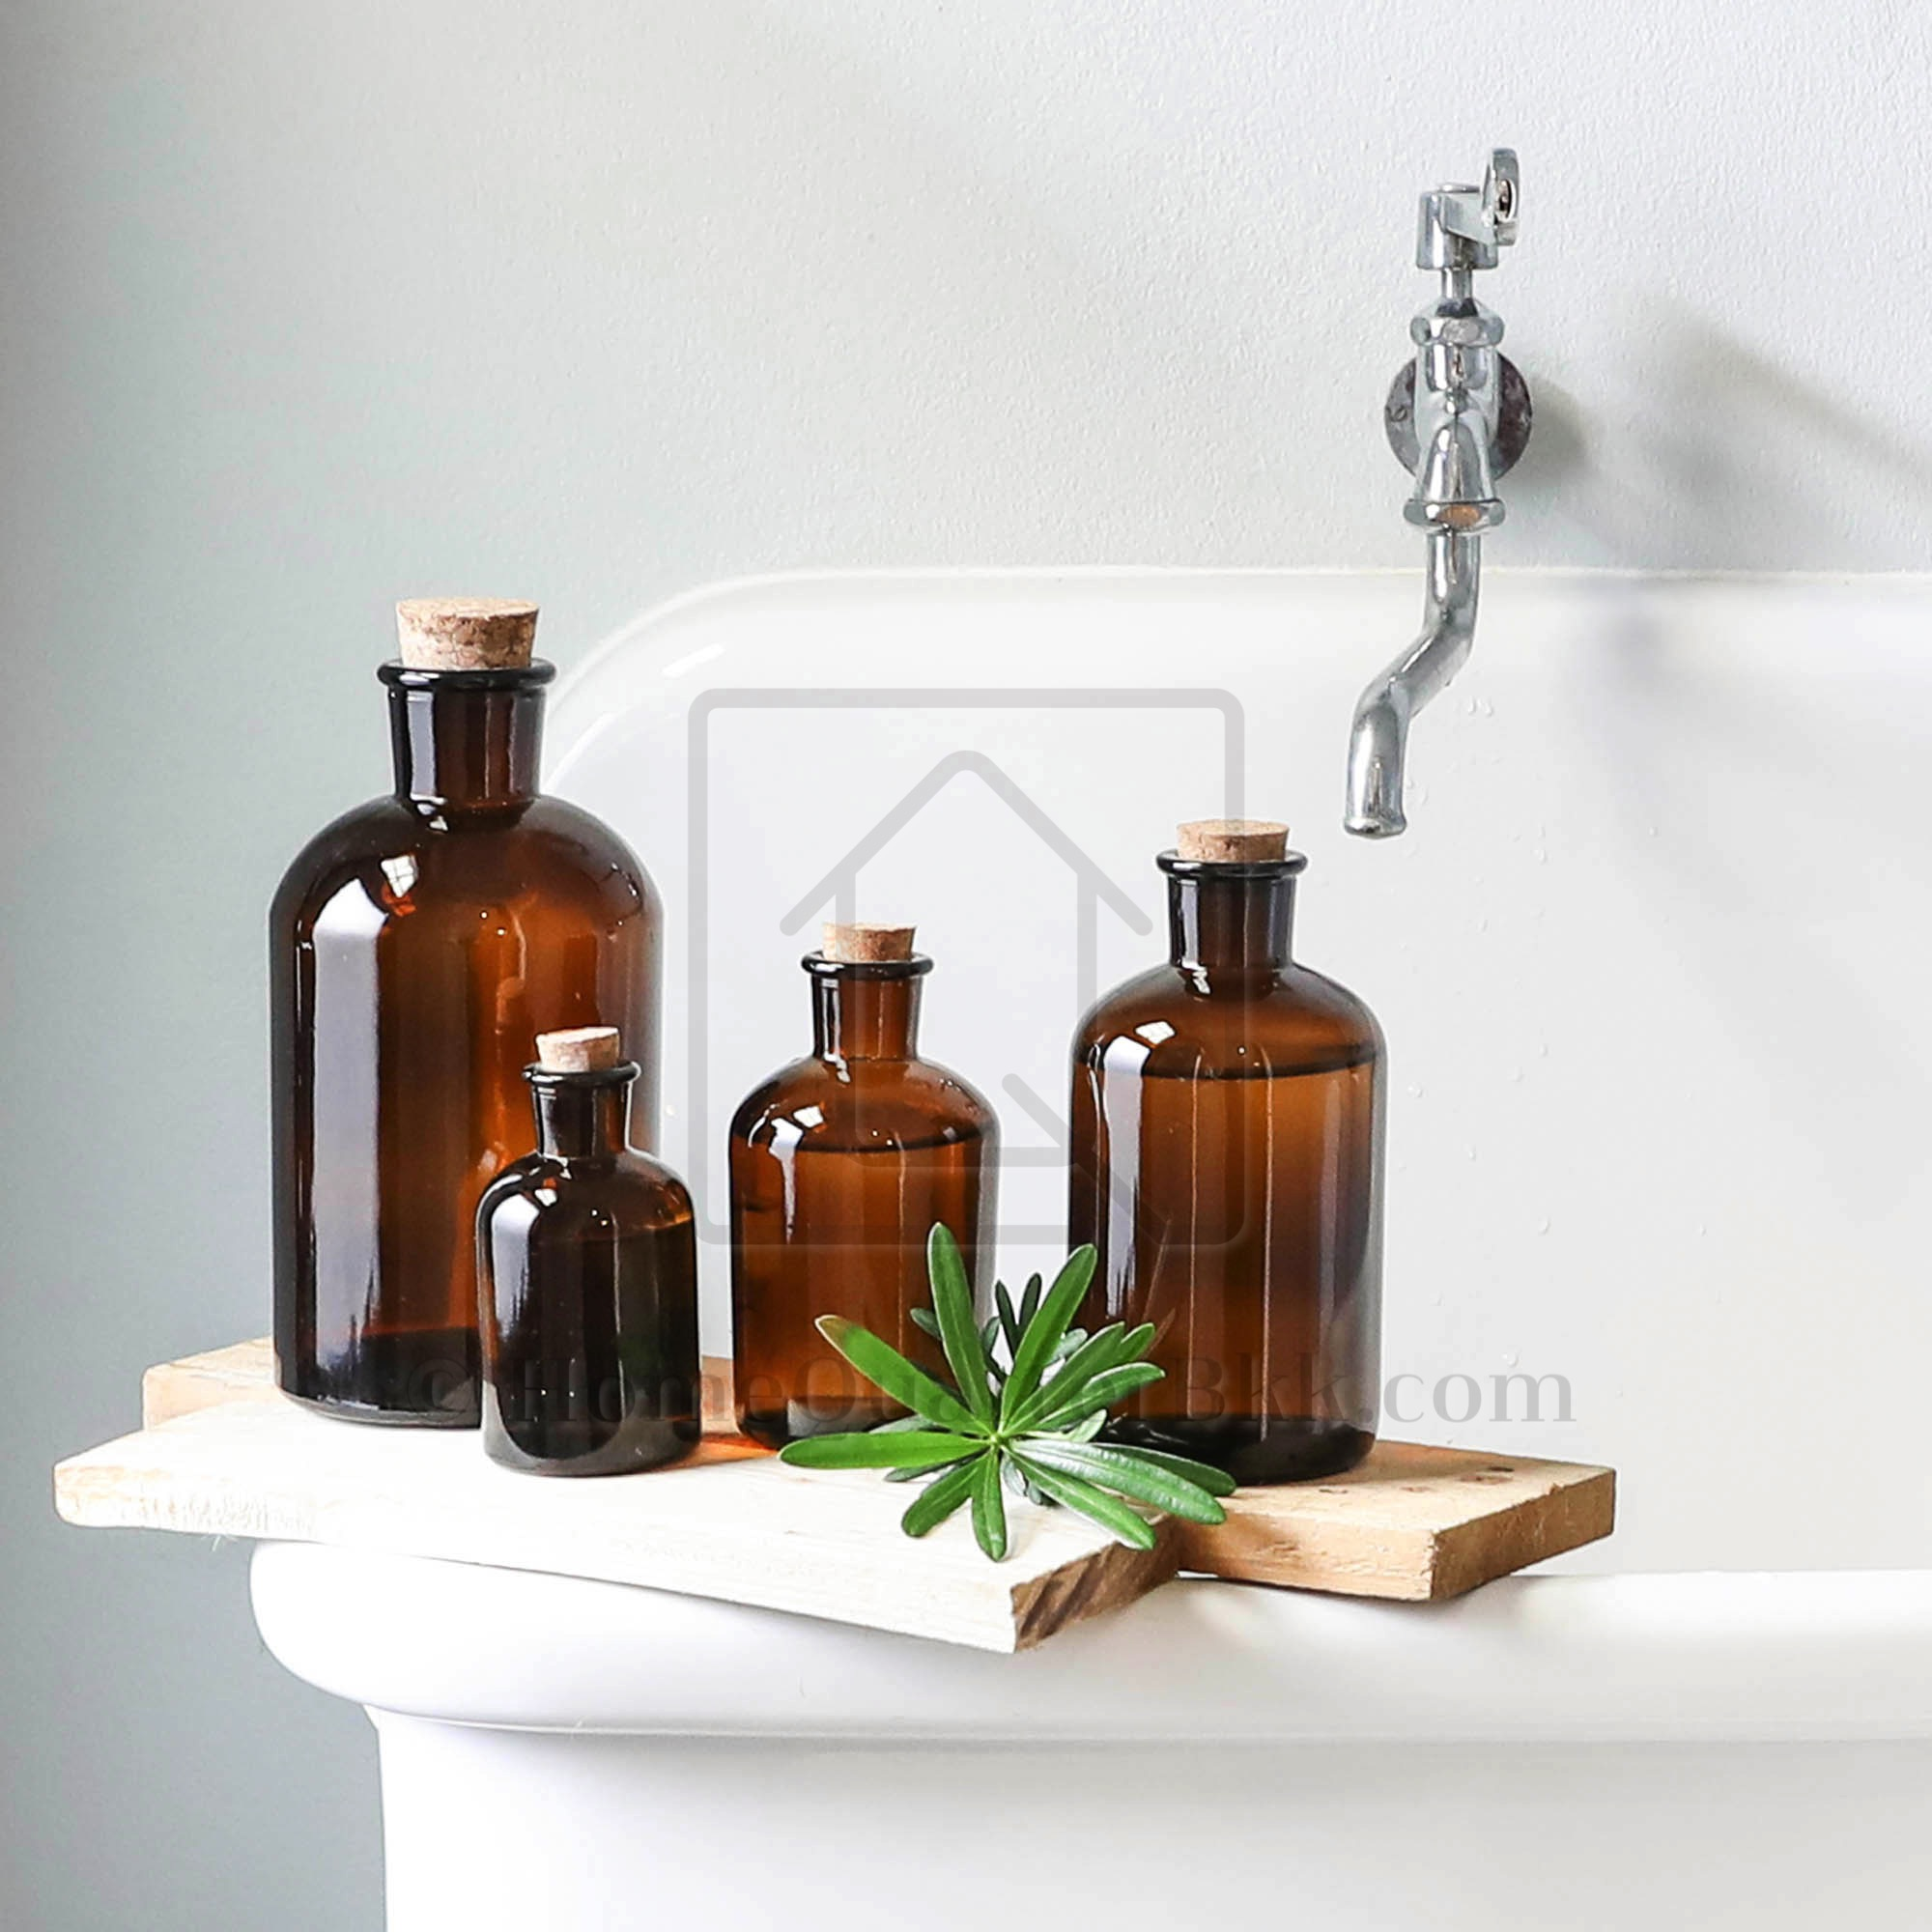glass_bottleww: (258, 640, 669, 1456), (1056, 794, 1417, 1504), (724, 906, 1012, 1483), (458, 1024, 706, 1500)
